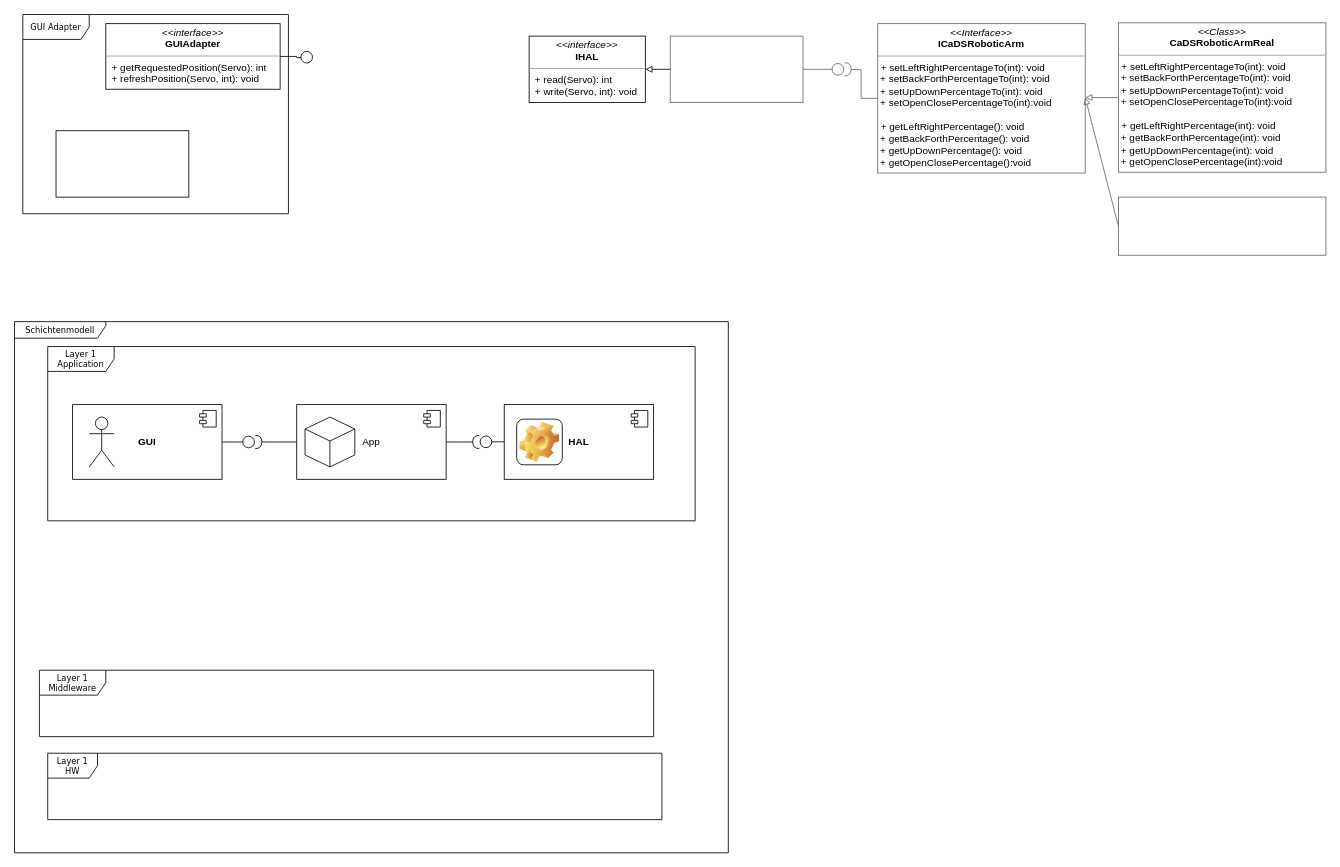
The diagram is 1340 pixels wide and 867 high, and some of its shapes have lost their labels. The centre of each missing label's shape, as x and y in pixels:
"<<class>> CaDSRoboticArmAdapter + getPosition(): int + setPosition(int): void" belongs at [736,69].
"<<Class>> CaDSRoboticArmSim ..." belongs at [1222,225].
"<<class>> CaDSRoboticControlGUI" belongs at [122,163].
